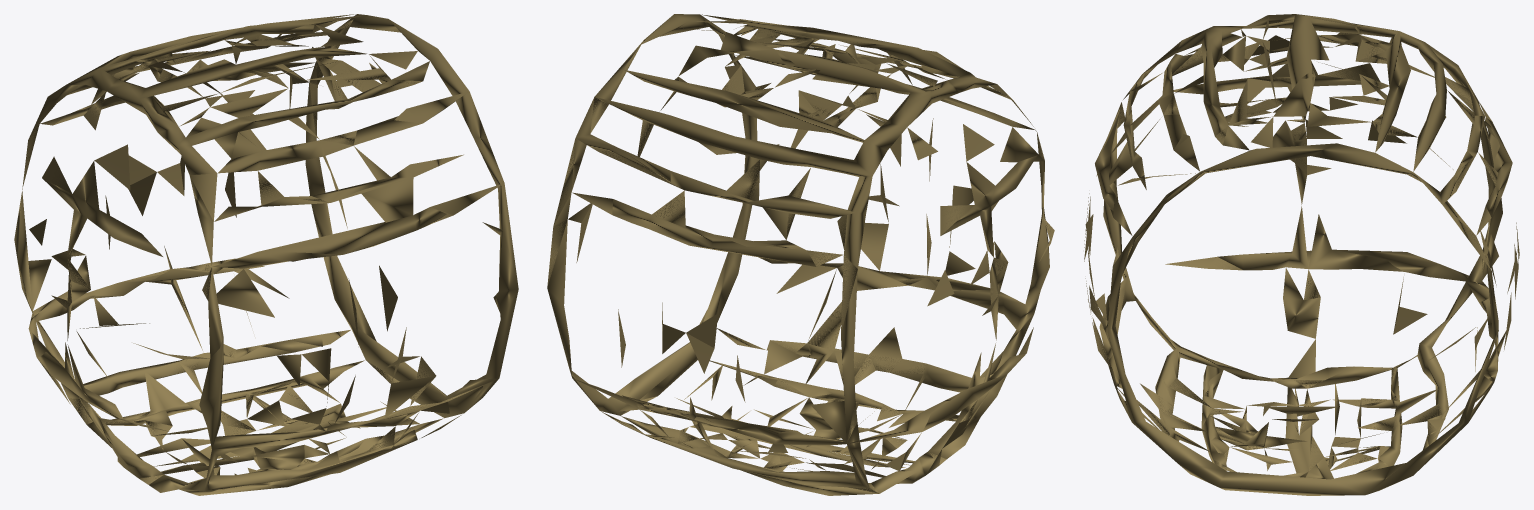
Rendered from fish-trap.glb.
3 renders of one model, left to right at view 1: azimuth 30°, elevation 25°; view 2: azimuth 150°, elevation 25°; view 3: azimuth 270°, elevation 25°, orthographic. The views are drawn at different scales.
Parts seen in each view (by area): view 1: 씬1.통발; view 2: 씬1.통발; view 3: 씬1.통발.
Part boxes in pixels (x1,y1,x2,y2): 씬1.통발: (14, 14, 518, 495); 씬1.통발: (547, 14, 1054, 495); 씬1.통발: (1084, 14, 1519, 495).
Size of the model in its own units: 0.8629 by 0.9169 by 0.95.
